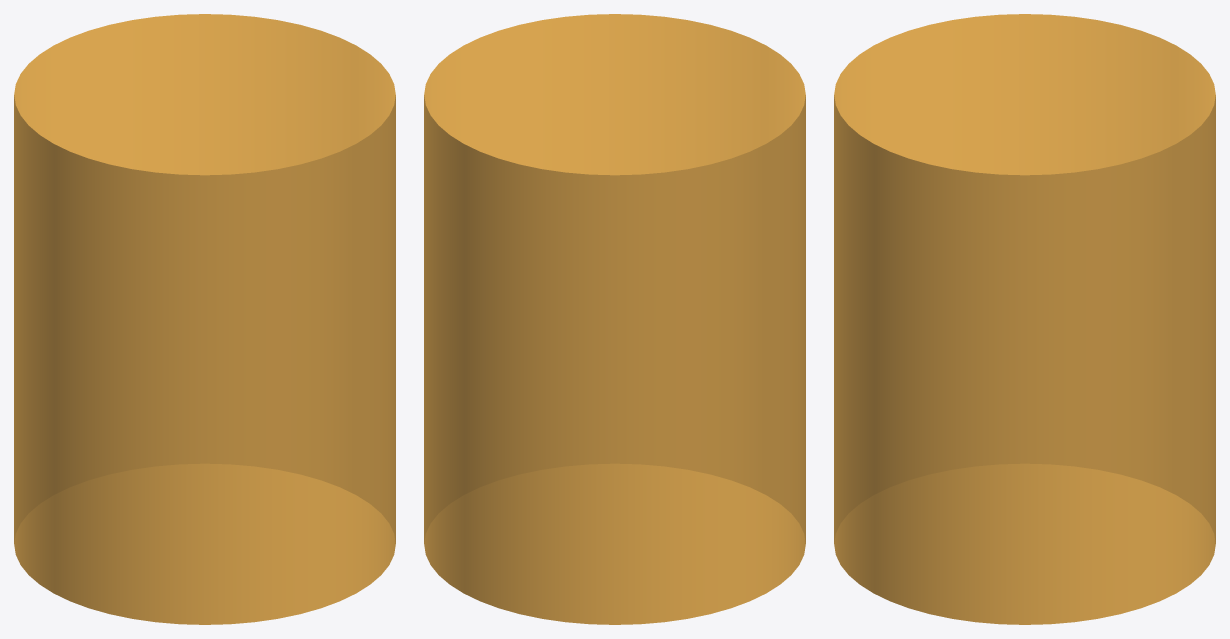
The model's file is tank_liquid.fbx.
3 renders of one model, left to right at view 1: azimuth 30°, elevation 25°; view 2: azimuth 150°, elevation 25°; view 3: azimuth 270°, elevation 25°, orthographic.
Visible parts, largest first — view 1: tank_liquid; view 2: tank_liquid; view 3: tank_liquid.
Part boxes in pixels (x1,y1,x2,y2): tank_liquid: (14,14,395,624); tank_liquid: (424,14,805,624); tank_liquid: (834,14,1215,624).
Bounding box in the file's own units: 0.2 × 0.26 × 0.2.
